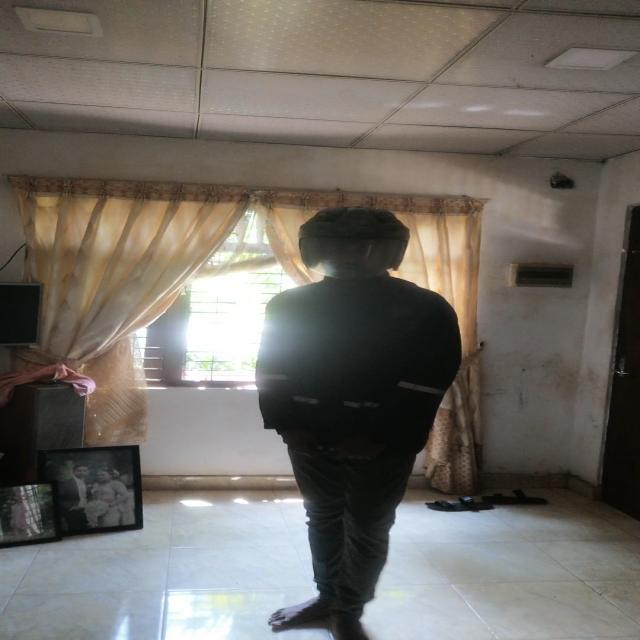Helmet_Wearer: (292, 204, 416, 288)
Jacket_Wearer: (255, 276, 464, 482)
Person: (263, 207, 463, 640)
